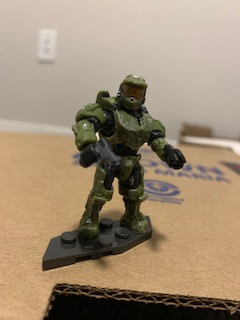chief: (68, 74, 187, 237)
pistol: (83, 138, 122, 173)
spartan: (66, 72, 185, 235)
